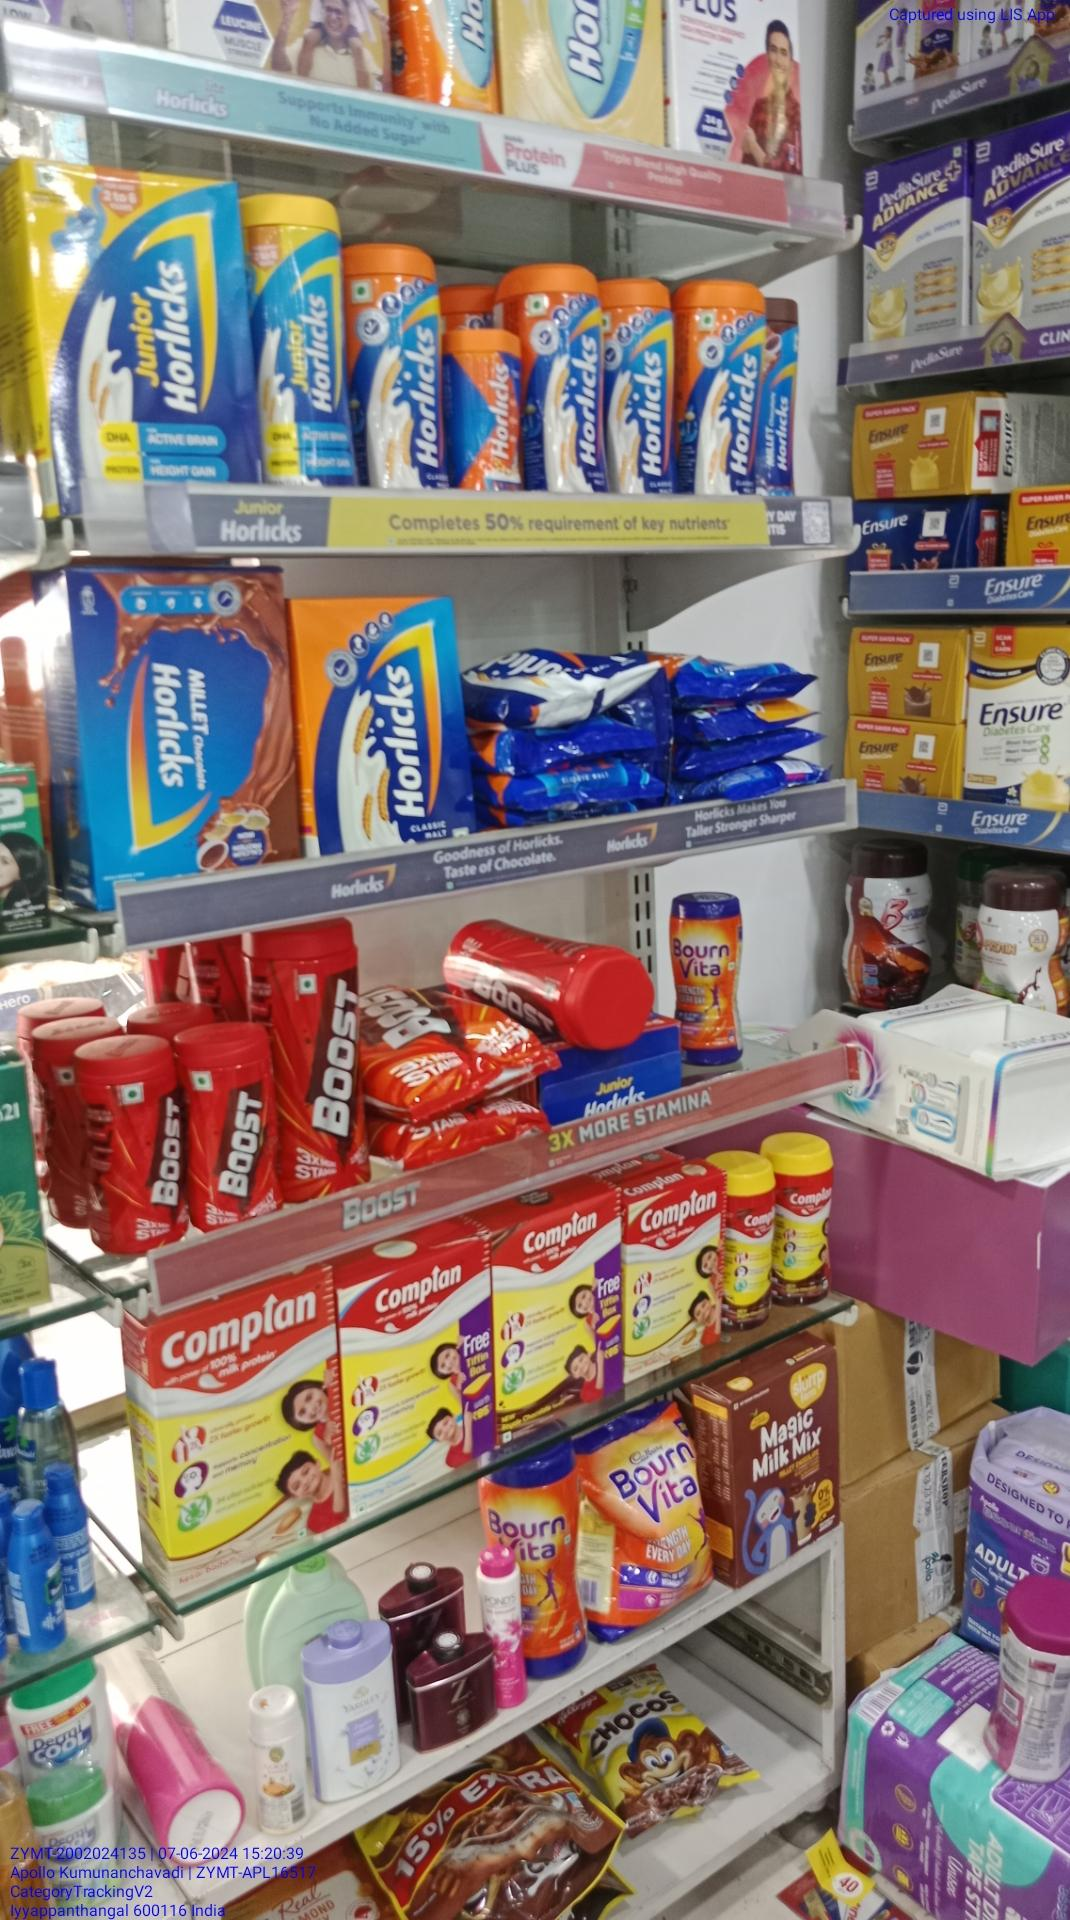HORLICK_CLASSIC_MALT_200_G_JAR: (449, 332, 523, 497)
HORLICK_CLASSIC_MALT_500_G_JAR: (356, 246, 445, 485), (515, 268, 605, 490), (685, 286, 756, 493), (610, 290, 676, 497)
HORLICK_CLASSIC_MALT_500_G_PACK: (293, 594, 460, 858)
